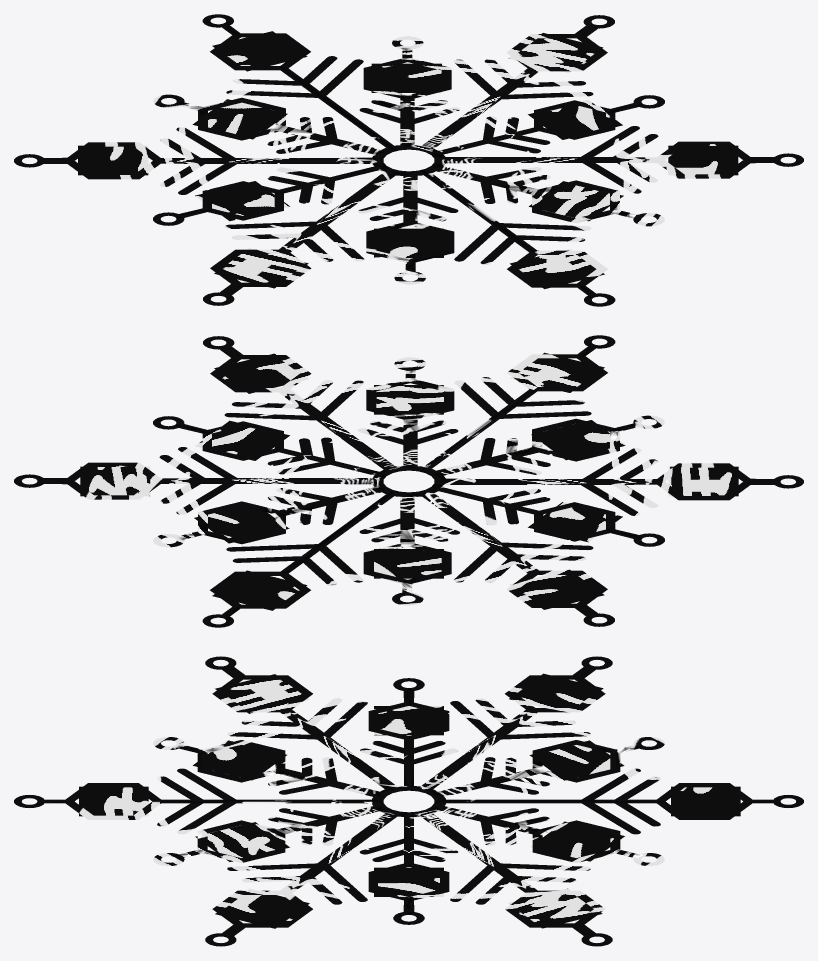
File: Akaza_Compass1.fbx
The picture shows the model from 3 angles, top to bottom: view 1: azimuth 30°, elevation 25°; view 2: azimuth 150°, elevation 25°; view 3: azimuth 270°, elevation 25°; orthographic projection.
Visible parts, largest first — view 1: SM_e_Plc_P1012_Compass001; view 2: SM_e_Plc_P1012_Compass001; view 3: SM_e_Plc_P1012_Compass001.
Boxes of the visible parts, x1,y1,x2,y2 form: SM_e_Plc_P1012_Compass001: (14, 14, 803, 306); SM_e_Plc_P1012_Compass001: (14, 335, 803, 627); SM_e_Plc_P1012_Compass001: (14, 656, 803, 946).
Bounding box in the file's own units: 118 × 0.000427 × 136.
